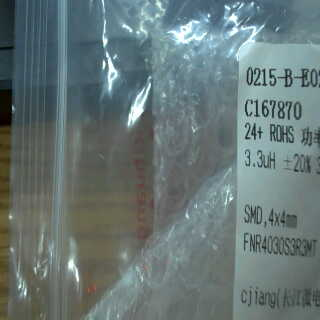3.3uH: (242, 147, 278, 172)
